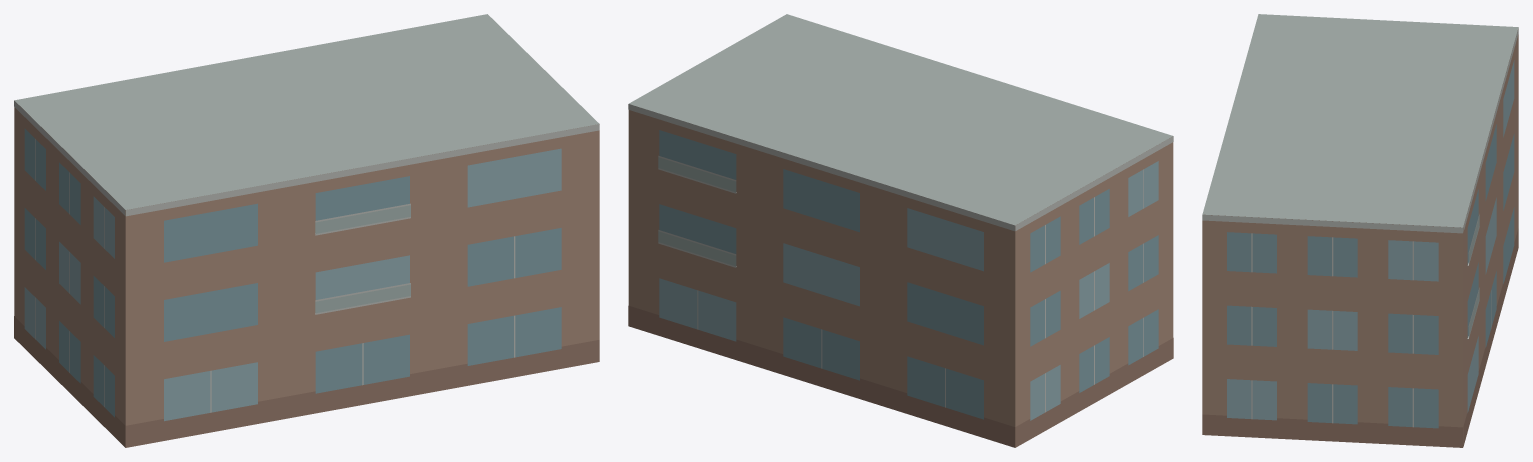
The model's file is survey-upis-32540322.glb.
3 renders of one model, left to right at view 1: azimuth 30°, elevation 25°; view 2: azimuth 150°, elevation 25°; view 3: azimuth 270°, elevation 25°, orthographic. The views are drawn at different scales.
Parts seen in each view (by area): view 1: survey-upis-32540322.tmp; view 2: survey-upis-32540322.tmp; view 3: survey-upis-32540322.tmp.
Part boxes in pixels (left/top/right/bottom): survey-upis-32540322.tmp: left=14, top=14, right=599, bottom=447; survey-upis-32540322.tmp: left=628, top=14, right=1173, bottom=447; survey-upis-32540322.tmp: left=1202, top=14, right=1518, bottom=447.
Size of the model in its own units: 19.03 by 9.15 by 11.92.
